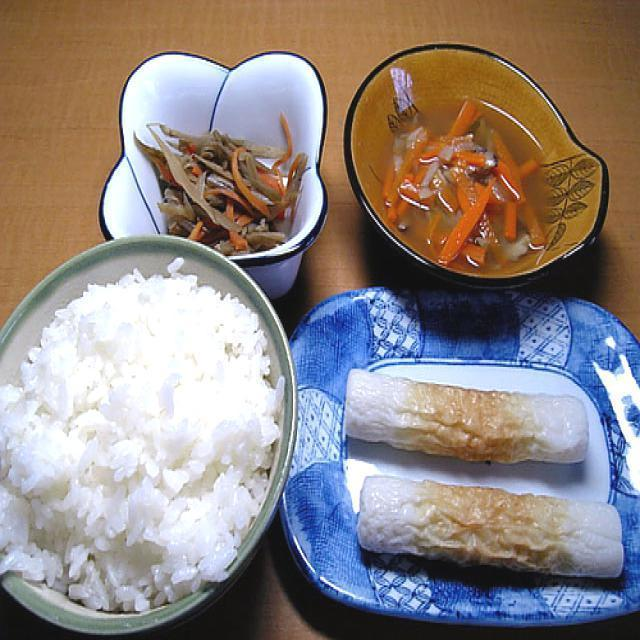Rice: (4, 250, 292, 614)
